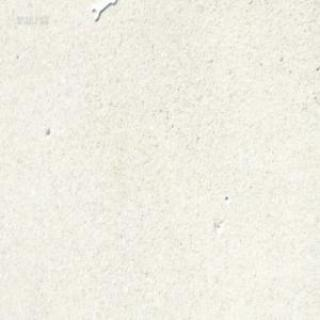Wrenchtrack_idkeyframe: (91, 0, 116, 22)
